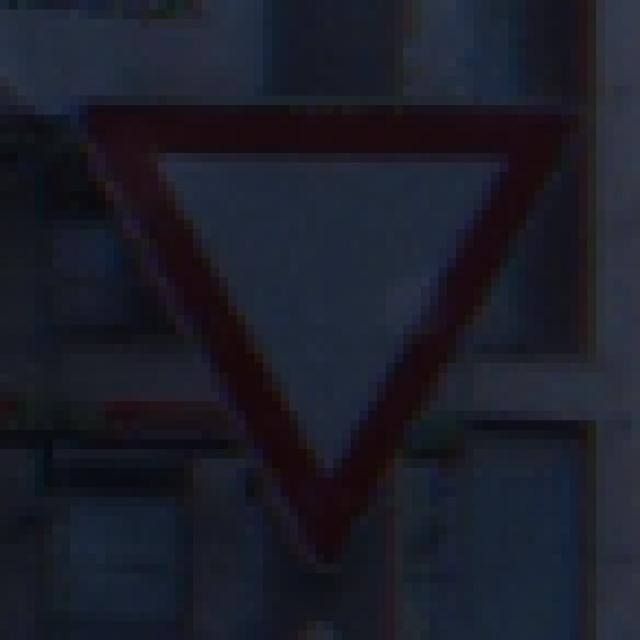Give Way: (54, 58, 589, 584)
